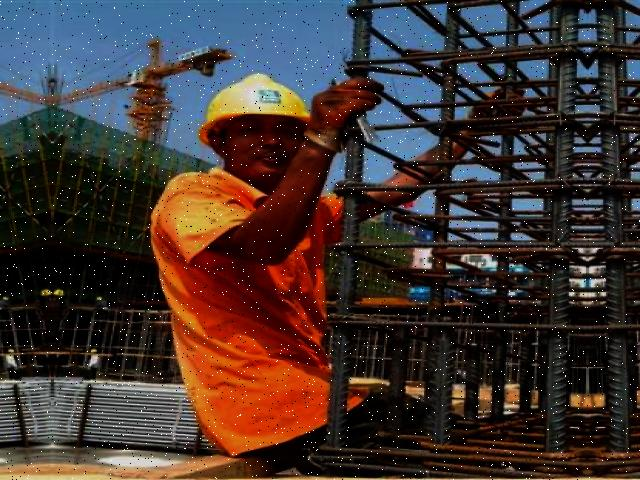Helmet: (195, 67, 317, 149)
